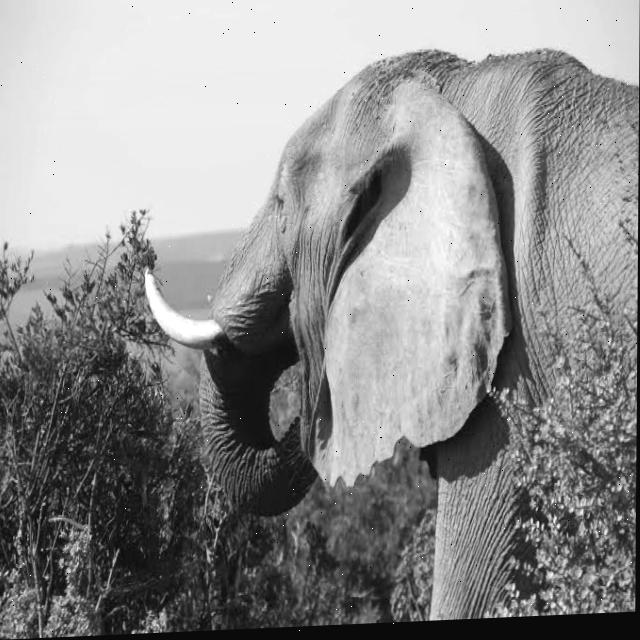Elephant: (140, 37, 639, 632)
